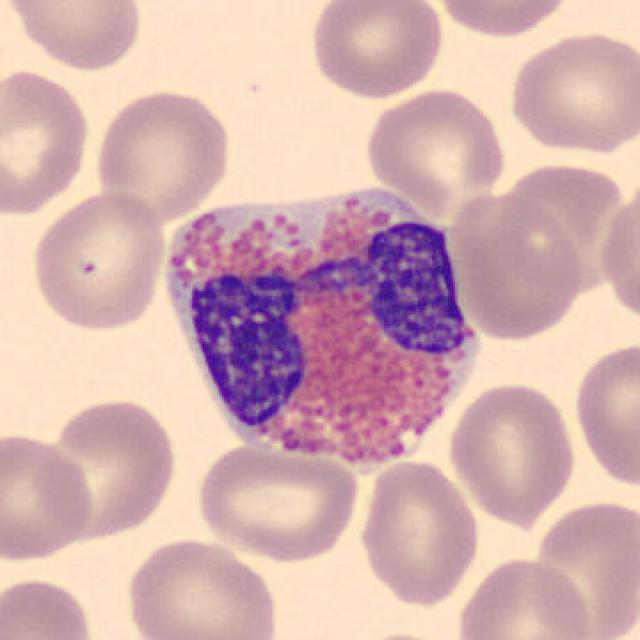Eosinophil: (157, 164, 492, 485)
RBC: (37, 393, 182, 545), (444, 187, 586, 342), (188, 439, 361, 562), (27, 189, 169, 335), (444, 378, 580, 526), (90, 85, 234, 224), (354, 457, 484, 608), (361, 85, 510, 216), (121, 532, 283, 640), (505, 26, 638, 157), (499, 160, 622, 300), (528, 495, 638, 640), (0, 64, 94, 220), (306, 0, 448, 100), (0, 427, 98, 566), (452, 552, 599, 640), (2, 0, 148, 74), (571, 337, 638, 492), (0, 573, 98, 640), (430, 0, 578, 41), (599, 180, 640, 321), (337, 627, 467, 640)
